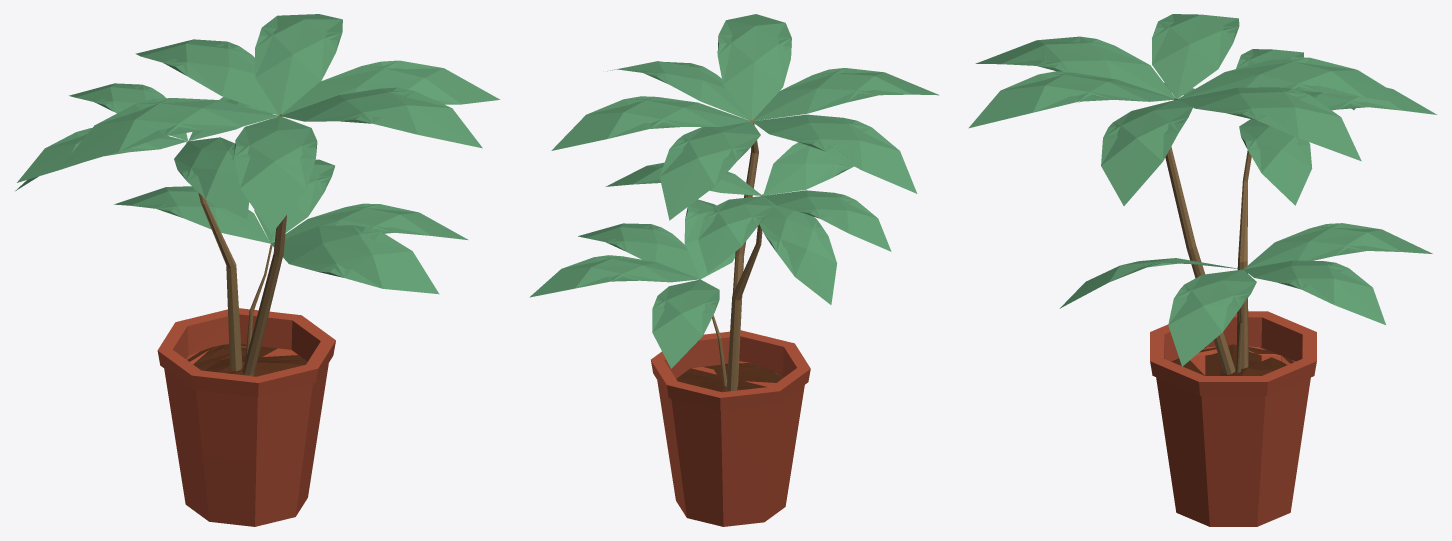
File: plant.gltf
3 renders of one model, left to right at view 1: azimuth 30°, elevation 25°; view 2: azimuth 150°, elevation 25°; view 3: azimuth 270°, elevation 25°, orthographic. The views are drawn at different scales.
Size of the model in its own units: 5.14 by 5.45 by 5.16.
